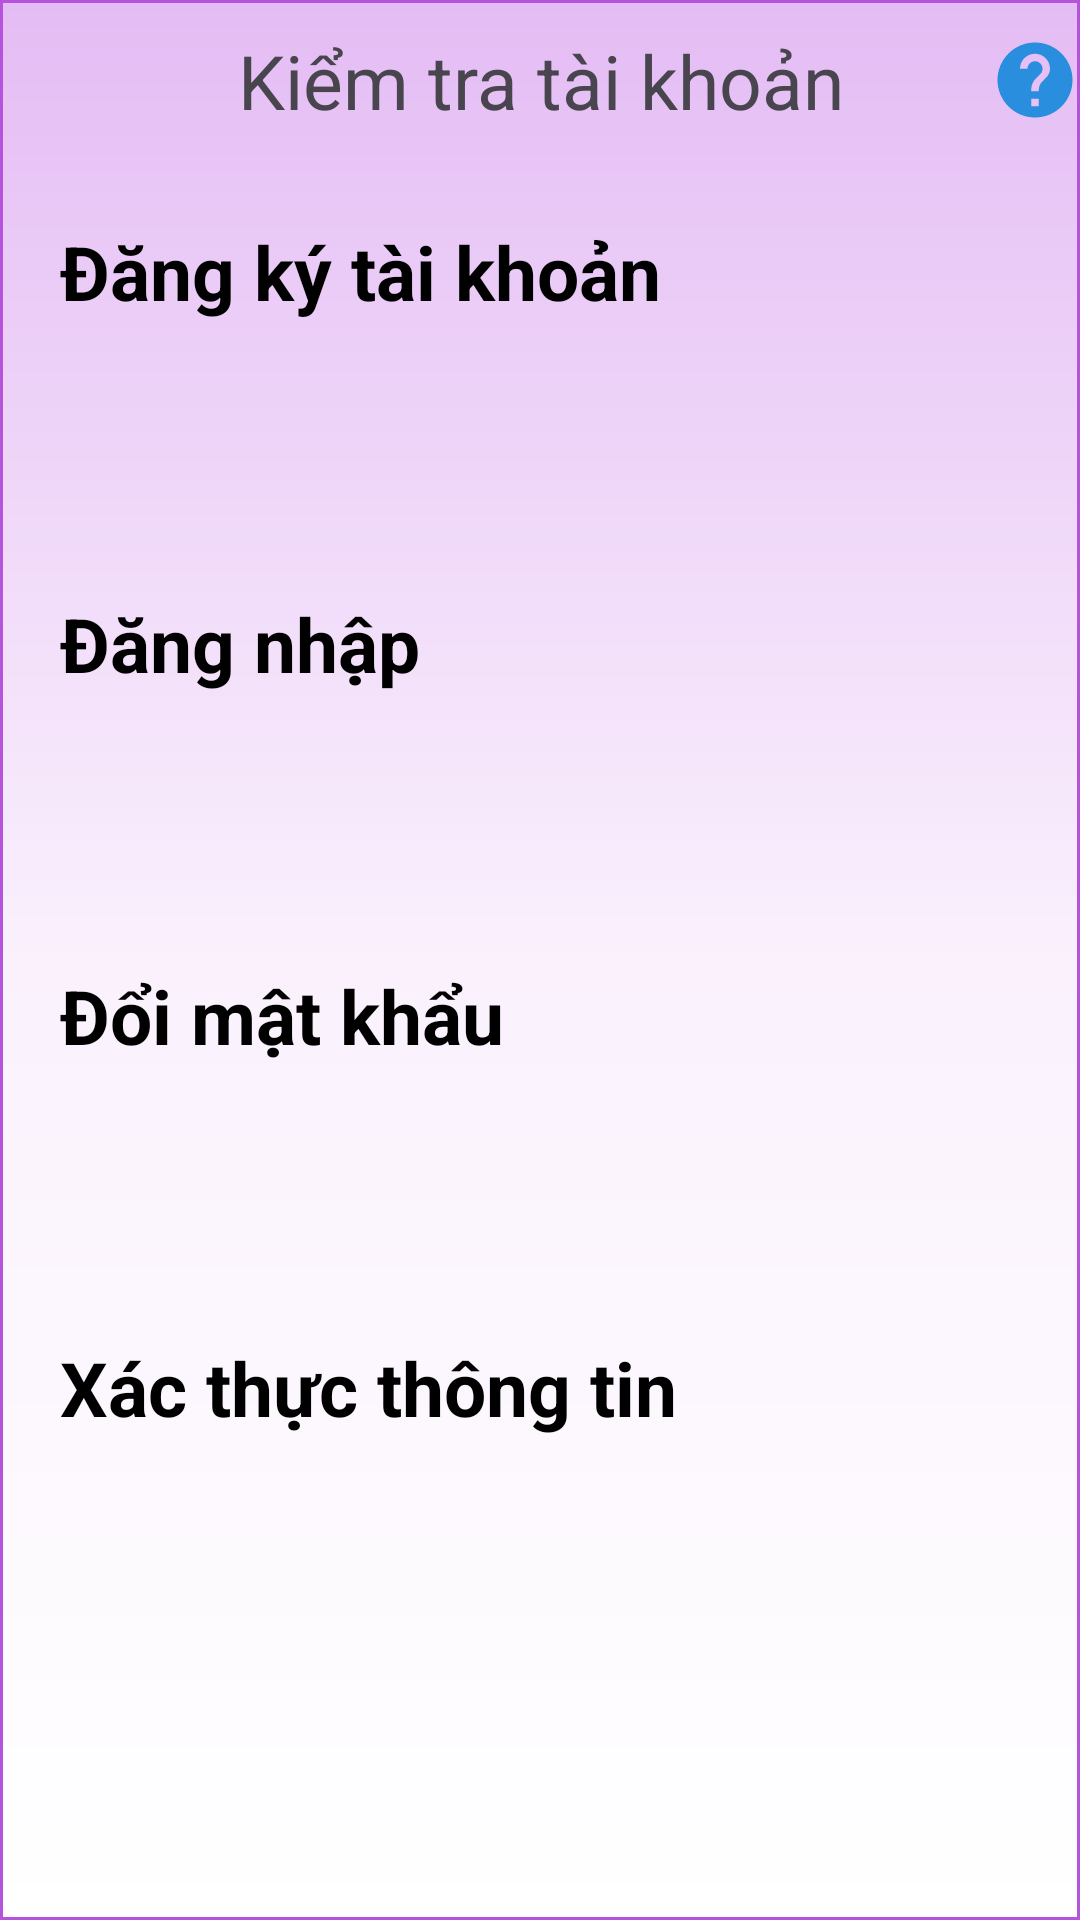

Icons on this 1080 × 1920 Android screen, each with the point to tap as [x,y]:
help: [1035,80]
